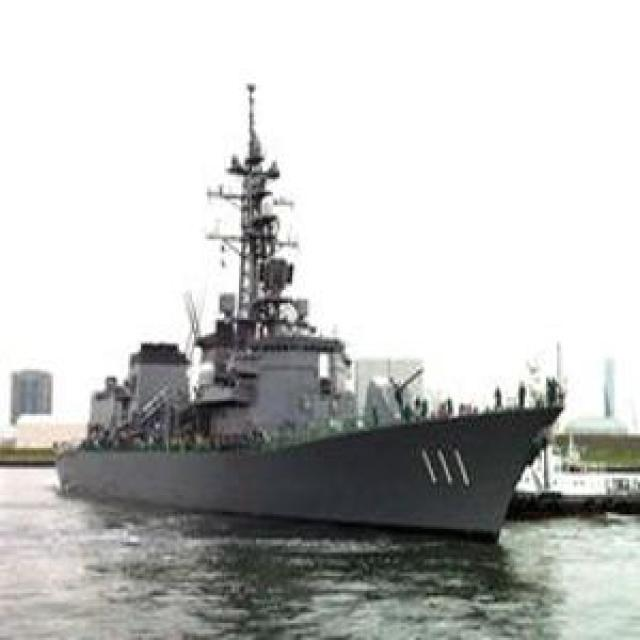navalvessels: (54, 70, 576, 550)
